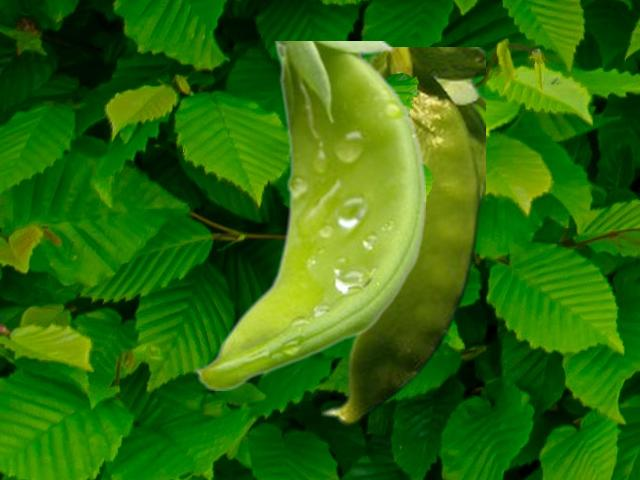pea: (193, 41, 424, 389), (321, 47, 484, 424)
